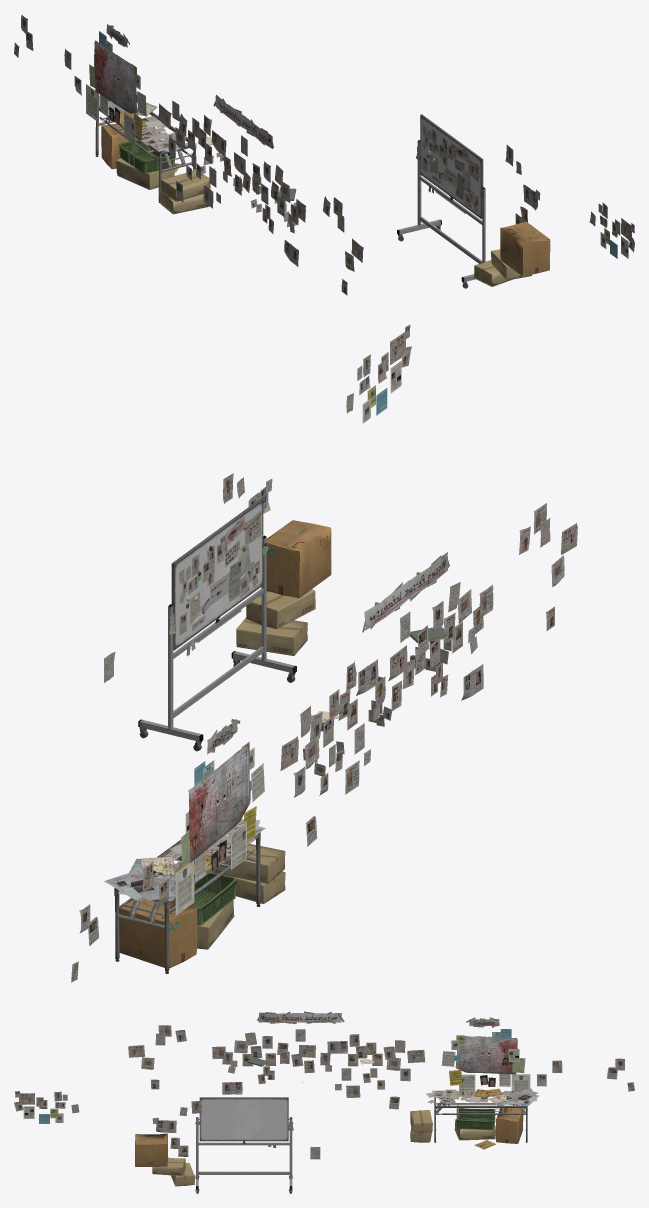
Rendered from sm39_157_missingpersonset01a.fbx.
The picture shows the model from 3 angles, top to bottom: view 1: azimuth 30°, elevation 25°; view 2: azimuth 150°, elevation 25°; view 3: azimuth 270°, elevation 25°; orthographic projection. The views are drawn at different scales.
Parts seen in each view (by area): view 1: LOD_1_Group_0_Sub_1__sm39_157_MissingPersonSet01A_A_Mat, LOD_1_Group_8_Sub_1__sm30_054_WhiteBoard01A_A_Mat, LOD_1_Group_0_Sub_10__sm36_057_Cardboard06A_A_Mat1, LOD_1_Group_0_Sub_9__sm36_004_Cardboard03A_A_Mat, LOD_1_Group_0_Sub_6__sm36_048_StrategyMap01A_A_Mat, LOD_1_Group_0_Sub_7__sm36_049_Paper01A_A_Mat1, LOD_1_Group_9_Sub_1__sm30_003_FoldingTable01A_A_Mat, LOD_1_Group_1_Sub_2__sm30_133_PlasticTray01A_B_Mat, LOD_1_Group_0_Sub_11__sm36_004_Cardboard03A_A_Mat1, LOD_1_Group_0_Sub_2__sm36_012_PaperMagnet01A_A_Mat, LOD_1_Group_0_Sub_3__sm36_015_BoardMemo01A_A_Mat__Env_AlphaT; view 2: LOD_1_Group_0_Sub_1__sm39_157_MissingPersonSet01A_A_Mat, LOD_1_Group_8_Sub_1__sm30_054_WhiteBoard01A_A_Mat, LOD_1_Group_0_Sub_10__sm36_057_Cardboard06A_A_Mat1, LOD_1_Group_0_Sub_9__sm36_004_Cardboard03A_A_Mat, LOD_1_Group_0_Sub_6__sm36_048_StrategyMap01A_A_Mat, LOD_1_Group_0_Sub_7__sm36_049_Paper01A_A_Mat1, LOD_1_Group_9_Sub_1__sm30_003_FoldingTable01A_A_Mat, LOD_1_Group_1_Sub_2__sm30_133_PlasticTray01A_B_Mat, LOD_1_Group_0_Sub_4__sm36_050_StrategyMap02A_B_Mat, LOD_1_Group_0_Sub_2__sm36_012_PaperMagnet01A_A_Mat, LOD_1_Group_0_Sub_3__sm36_015_BoardMemo01A_A_Mat__Env_AlphaT, LOD_1_Group_0_Sub_11__sm36_004_Cardboard03A_A_Mat1; view 3: LOD_1_Group_0_Sub_1__sm39_157_MissingPersonSet01A_A_Mat, LOD_1_Group_8_Sub_1__sm30_054_WhiteBoard01A_A_Mat, LOD_1_Group_0_Sub_7__sm36_049_Paper01A_A_Mat1, LOD_1_Group_0_Sub_6__sm36_048_StrategyMap01A_A_Mat, LOD_1_Group_0_Sub_10__sm36_057_Cardboard06A_A_Mat1, LOD_1_Group_0_Sub_9__sm36_004_Cardboard03A_A_Mat, LOD_1_Group_9_Sub_1__sm30_003_FoldingTable01A_A_Mat, LOD_1_Group_1_Sub_2__sm30_133_PlasticTray01A_B_Mat, LOD_1_Group_0_Sub_4__sm36_050_StrategyMap02A_B_Mat, LOD_1_Group_0_Sub_11__sm36_004_Cardboard03A_A_Mat1, LOD_1_Group_0_Sub_8__sm36_008_Envelope01A_A.
Part boxes in pixels (left/top/right/bottom): LOD_1_Group_0_Sub_1__sm39_157_MissingPersonSet01A_A_Mat: left=14, top=14, right=634, bottom=295; LOD_1_Group_8_Sub_1__sm30_054_WhiteBoard01A_A_Mat: left=397, top=114, right=485, bottom=288; LOD_1_Group_0_Sub_10__sm36_057_Cardboard06A_A_Mat1: left=101, top=123, right=550, bottom=276; LOD_1_Group_0_Sub_9__sm36_004_Cardboard03A_A_Mat: left=160, top=169, right=531, bottom=286; LOD_1_Group_0_Sub_6__sm36_048_StrategyMap01A_A_Mat: left=94, top=40, right=137, bottom=123; LOD_1_Group_0_Sub_7__sm36_049_Paper01A_A_Mat1: left=86, top=31, right=628, bottom=258; LOD_1_Group_9_Sub_1__sm30_003_FoldingTable01A_A_Mat: left=95, top=107, right=196, bottom=202; LOD_1_Group_1_Sub_2__sm30_133_PlasticTray01A_B_Mat: left=118, top=137, right=175, bottom=173; LOD_1_Group_0_Sub_11__sm36_004_Cardboard03A_A_Mat1: left=116, top=158, right=174, bottom=189; LOD_1_Group_0_Sub_2__sm36_012_PaperMagnet01A_A_Mat: left=428, top=138, right=478, bottom=200; LOD_1_Group_0_Sub_3__sm36_015_BoardMemo01A_A_Mat__Env_AlphaT: left=432, top=146, right=468, bottom=187; LOD_1_Group_0_Sub_1__sm39_157_MissingPersonSet01A_A_Mat: left=71, top=324, right=577, bottom=982; LOD_1_Group_8_Sub_1__sm30_054_WhiteBoard01A_A_Mat: left=138, top=498, right=296, bottom=751; LOD_1_Group_0_Sub_10__sm36_057_Cardboard06A_A_Mat1: left=119, top=520, right=331, bottom=968; LOD_1_Group_0_Sub_9__sm36_004_Cardboard03A_A_Mat: left=213, top=589, right=315, bottom=903; LOD_1_Group_0_Sub_6__sm36_048_StrategyMap01A_A_Mat: left=188, top=743, right=250, bottom=873; LOD_1_Group_0_Sub_7__sm36_049_Paper01A_A_Mat1: left=175, top=360, right=401, bottom=915; LOD_1_Group_9_Sub_1__sm30_003_FoldingTable01A_A_Mat: left=114, top=832, right=260, bottom=973; LOD_1_Group_1_Sub_2__sm30_133_PlasticTray01A_B_Mat: left=173, top=872, right=236, bottom=925; LOD_1_Group_0_Sub_4__sm36_050_StrategyMap02A_B_Mat: left=104, top=858, right=180, bottom=901; LOD_1_Group_0_Sub_2__sm36_012_PaperMagnet01A_A_Mat: left=186, top=510, right=261, bottom=656; LOD_1_Group_0_Sub_3__sm36_015_BoardMemo01A_A_Mat__Env_AlphaT: left=192, top=515, right=245, bottom=631; LOD_1_Group_0_Sub_11__sm36_004_Cardboard03A_A_Mat1: left=197, top=900, right=234, bottom=949; LOD_1_Group_0_Sub_1__sm39_157_MissingPersonSet01A_A_Mat: left=14, top=1011, right=634, bottom=1159; LOD_1_Group_8_Sub_1__sm30_054_WhiteBoard01A_A_Mat: left=195, top=1097, right=292, bottom=1193; LOD_1_Group_0_Sub_7__sm36_049_Paper01A_A_Mat1: left=23, top=1029, right=530, bottom=1123; LOD_1_Group_0_Sub_6__sm36_048_StrategyMap01A_A_Mat: left=455, top=1036, right=517, bottom=1086; LOD_1_Group_0_Sub_10__sm36_057_Cardboard06A_A_Mat1: left=135, top=1105, right=523, bottom=1166; LOD_1_Group_0_Sub_9__sm36_004_Cardboard03A_A_Mat: left=152, top=1110, right=432, bottom=1186; LOD_1_Group_9_Sub_1__sm30_003_FoldingTable01A_A_Mat: left=434, top=1095, right=527, bottom=1142; LOD_1_Group_1_Sub_2__sm30_133_PlasticTray01A_B_Mat: left=456, top=1108, right=495, bottom=1129; LOD_1_Group_0_Sub_4__sm36_050_StrategyMap02A_B_Mat: left=492, top=1088, right=538, bottom=1105; LOD_1_Group_0_Sub_11__sm36_004_Cardboard03A_A_Mat1: left=454, top=1119, right=495, bottom=1140; LOD_1_Group_0_Sub_8__sm36_008_Envelope01A_A: left=360, top=1058, right=502, bottom=1149.
Size of the model in its own units: 3.23 by 2.55 by 12.31.
